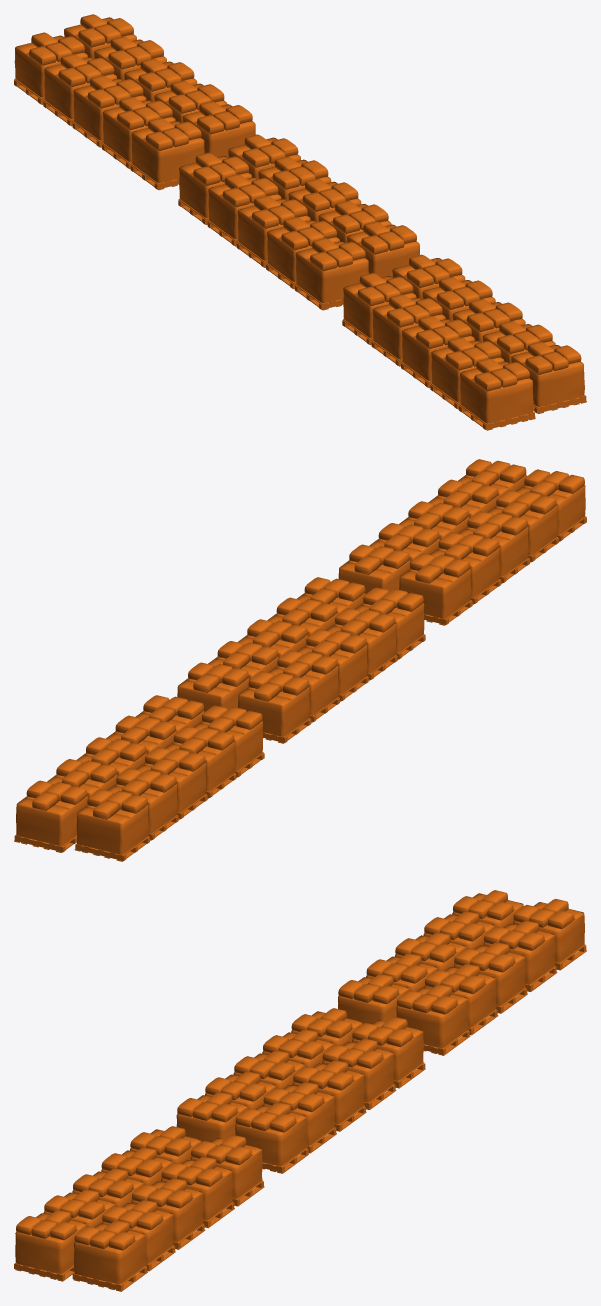
The model's file is 成品包装.fbx.
The picture shows the model from 3 angles, top to bottom: view 1: azimuth 30°, elevation 25°; view 2: azimuth 150°, elevation 25°; view 3: azimuth 330°, elevation 25°; orthographic projection.
Parts seen in each view (by area): view 1: Obj3d66-1680817-1-228, Obj3d66-1680817-1-208, Obj3d66-1680817-1-218, Obj3d66-1680817-1-227, Obj3d66-1680817-1-204, Obj3d66-1680817-1-223, Obj3d66-1680817-1-215, Obj3d66-1680817-1-224, Obj3d66-1680817-1-225, Obj3d66-1680817-1-203, Obj3d66-1680817-1-202, Obj3d66-1680817-1-213 (+18 smaller); view 2: Obj3d66-1680817-1-202, Obj3d66-1680817-1-197, Obj3d66-1680817-1-213, Obj3d66-1680817-1-223, Obj3d66-1680817-1-226, Obj3d66-1680817-1-203, Obj3d66-1680817-1-216, Obj3d66-1680817-1-215, Obj3d66-1680817-1-204, Obj3d66-1680817-1-214, Obj3d66-1680817-1-225, Obj3d66-1680817-1-224 (+18 smaller); view 3: Obj3d66-1680817-1-227, Obj3d66-1680817-1-228, Obj3d66-1680817-1-206, Obj3d66-1680817-1-217, Obj3d66-1680817-1-211, Obj3d66-1680817-1-209, Obj3d66-1680817-1-221, Obj3d66-1680817-1-219, Obj3d66-1680817-1-199, Obj3d66-1680817-1-210, Obj3d66-1680817-1-198, Obj3d66-1680817-1-220 (+18 smaller).
Boxes of the visible parts, bbox=[...] form: Obj3d66-1680817-1-228: bbox=[459, 358, 535, 430]; Obj3d66-1680817-1-208: bbox=[130, 118, 204, 190]; Obj3d66-1680817-1-218: bbox=[295, 238, 368, 310]; Obj3d66-1680817-1-227: bbox=[511, 341, 586, 413]; Obj3d66-1680817-1-204: bbox=[72, 75, 146, 147]; Obj3d66-1680817-1-223: bbox=[342, 273, 416, 345]; Obj3d66-1680817-1-215: bbox=[236, 195, 310, 267]; Obj3d66-1680817-1-224: bbox=[371, 294, 445, 366]; Obj3d66-1680817-1-225: bbox=[401, 315, 474, 388]; Obj3d66-1680817-1-203: bbox=[43, 54, 116, 126]; Obj3d66-1680817-1-202: bbox=[14, 32, 87, 104]; Obj3d66-1680817-1-213: bbox=[178, 152, 251, 224]; Obj3d66-1680817-1-202: bbox=[74, 789, 149, 861]; Obj3d66-1680817-1-197: bbox=[14, 780, 87, 852]; Obj3d66-1680817-1-213: bbox=[238, 671, 311, 743]; Obj3d66-1680817-1-223: bbox=[399, 553, 472, 625]; Obj3d66-1680817-1-226: bbox=[487, 490, 558, 562]; Obj3d66-1680817-1-203: bbox=[107, 768, 178, 840]; Obj3d66-1680817-1-216: bbox=[326, 608, 397, 680]; Obj3d66-1680817-1-215: bbox=[297, 629, 368, 701]; Obj3d66-1680817-1-204: bbox=[136, 747, 207, 819]; Obj3d66-1680817-1-214: bbox=[269, 650, 339, 722]; Obj3d66-1680817-1-225: bbox=[459, 511, 529, 583]; Obj3d66-1680817-1-224: bbox=[430, 532, 501, 604]; Obj3d66-1680817-1-227: bbox=[72, 1220, 147, 1291]; Obj3d66-1680817-1-228: bbox=[14, 1210, 86, 1281]; Obj3d66-1680817-1-206: bbox=[396, 984, 470, 1055]; Obj3d66-1680817-1-217: bbox=[235, 1102, 308, 1173]; Obj3d66-1680817-1-211: bbox=[292, 1060, 366, 1131]; Obj3d66-1680817-1-209: bbox=[352, 1017, 425, 1088]; Obj3d66-1680817-1-221: bbox=[131, 1178, 205, 1249]; Obj3d66-1680817-1-219: bbox=[190, 1135, 264, 1206]; Obj3d66-1680817-1-199: bbox=[454, 942, 527, 1013]; Obj3d66-1680817-1-210: bbox=[322, 1038, 396, 1109]; Obj3d66-1680817-1-198: bbox=[483, 920, 557, 991]; Obj3d66-1680817-1-220: bbox=[161, 1156, 234, 1228].
Bounding box in the file's own units: 1796 × 759 × 14153.
